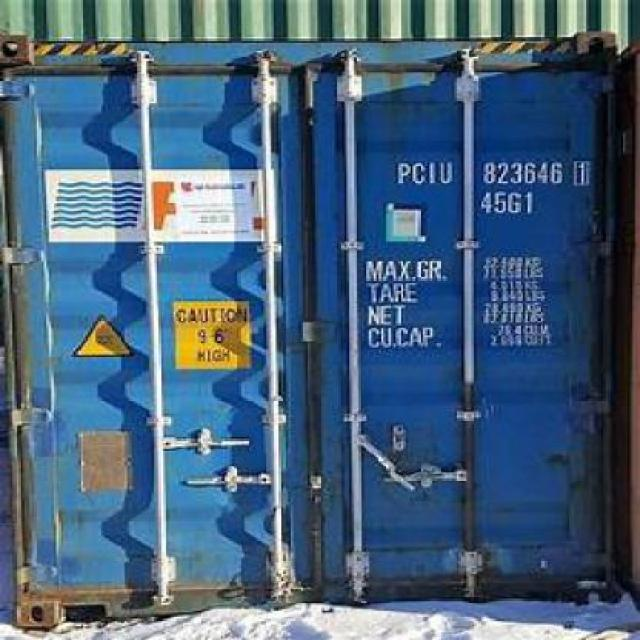ISO: (480, 190, 538, 214)
container_number: (400, 156, 585, 184)
